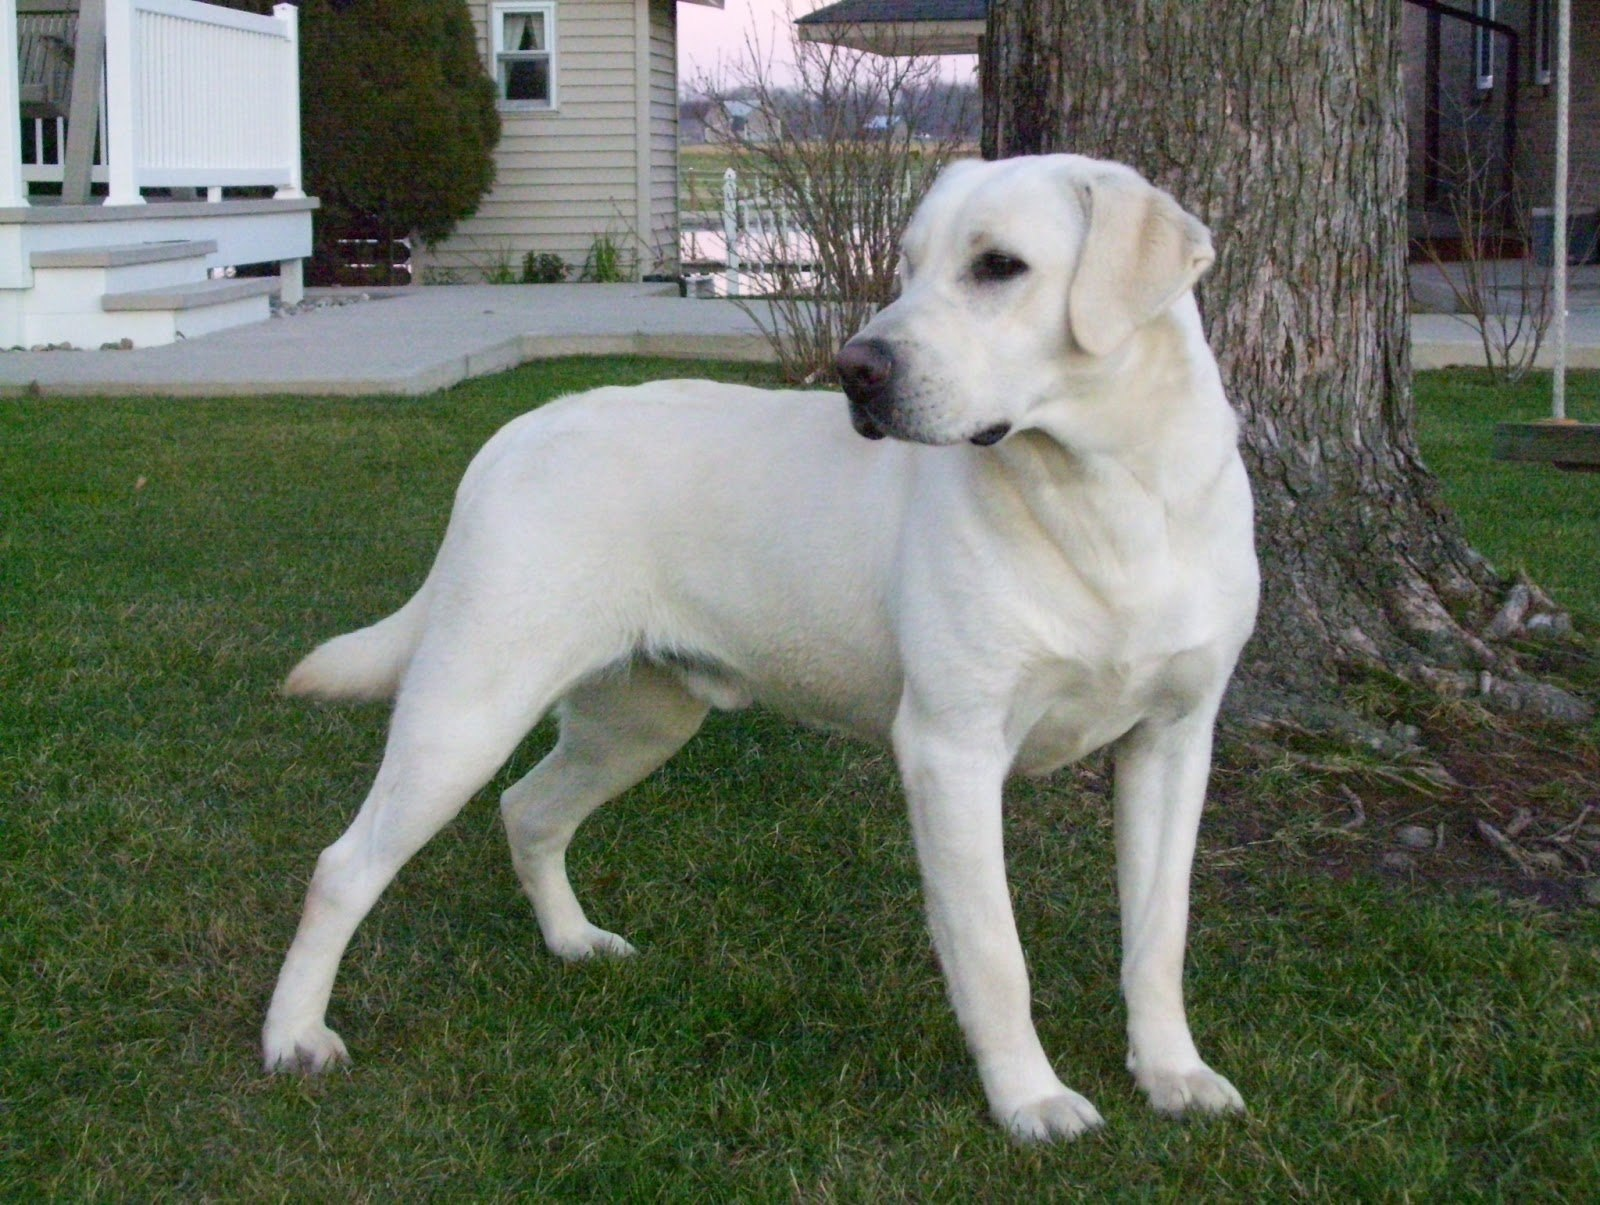dog: (257, 144, 1270, 1148)
